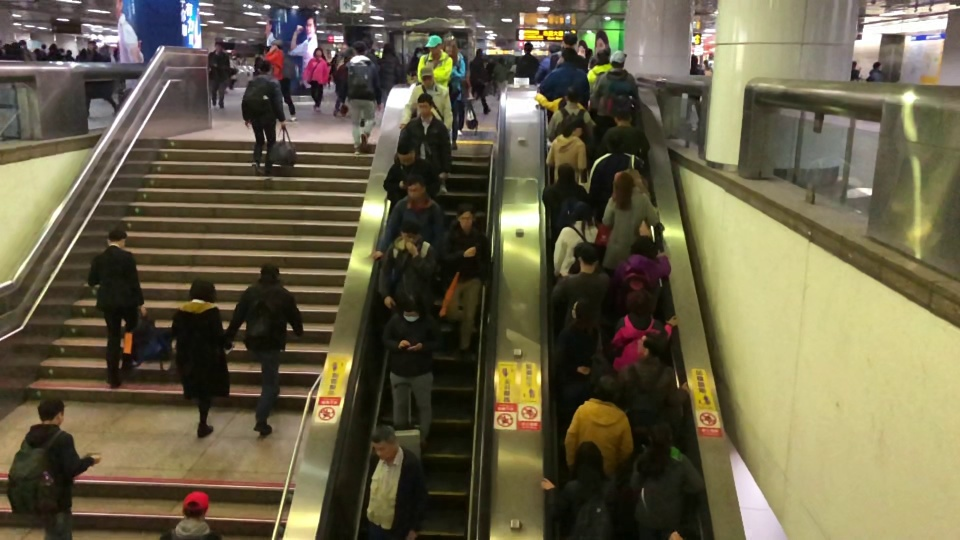person_head: (572, 440, 606, 487), (369, 423, 401, 461), (610, 170, 635, 212), (36, 397, 65, 427), (181, 490, 209, 521), (626, 288, 653, 319), (647, 419, 674, 449), (399, 290, 424, 322), (635, 330, 663, 358), (189, 278, 218, 305), (399, 216, 423, 248), (578, 242, 601, 275), (630, 233, 658, 259), (594, 371, 616, 402), (455, 201, 477, 231), (604, 127, 627, 154), (395, 137, 416, 166), (405, 171, 426, 200), (570, 296, 592, 323), (560, 118, 586, 139), (441, 33, 459, 63), (571, 200, 591, 225), (612, 106, 634, 127), (259, 262, 279, 285), (106, 229, 128, 249), (556, 162, 576, 184), (417, 93, 433, 119), (426, 34, 443, 58), (609, 48, 627, 68), (419, 65, 435, 87), (257, 59, 274, 76), (566, 84, 581, 103), (562, 32, 578, 49), (596, 48, 610, 67), (352, 40, 366, 56), (361, 36, 374, 52), (382, 42, 395, 56), (547, 43, 561, 56), (213, 40, 224, 54), (588, 55, 599, 69), (413, 45, 424, 58), (523, 41, 534, 54), (271, 39, 283, 50), (313, 46, 324, 58), (873, 62, 886, 72), (87, 40, 97, 51), (48, 43, 58, 52), (19, 39, 28, 48), (476, 48, 483, 57), (498, 55, 504, 64)
person_vbox: (8, 395, 102, 540), (226, 264, 303, 436), (169, 278, 234, 438), (626, 413, 705, 540), (598, 332, 690, 438), (86, 229, 148, 386), (538, 436, 626, 540), (381, 291, 435, 451), (437, 206, 491, 356), (563, 370, 634, 481), (364, 423, 429, 540), (592, 169, 660, 278), (368, 174, 447, 264), (398, 65, 453, 193), (546, 243, 611, 347), (608, 290, 679, 383), (587, 129, 649, 227), (377, 218, 440, 313), (240, 57, 287, 179), (553, 296, 599, 408), (609, 234, 672, 314), (398, 94, 451, 181), (541, 162, 593, 244), (344, 41, 380, 156), (588, 50, 641, 127), (383, 137, 442, 204), (552, 198, 599, 279), (159, 488, 224, 540), (546, 118, 591, 193), (594, 105, 650, 164), (82, 39, 120, 121), (545, 85, 597, 144), (263, 39, 298, 122), (441, 34, 466, 150), (358, 35, 383, 128), (207, 39, 238, 109), (300, 46, 331, 113), (417, 35, 453, 88), (380, 42, 406, 108), (551, 32, 589, 77), (332, 46, 355, 116), (468, 47, 491, 114), (585, 48, 614, 99), (534, 90, 588, 115), (534, 43, 562, 85), (515, 41, 540, 84), (404, 45, 426, 85), (491, 54, 508, 100), (866, 62, 887, 83), (18, 39, 37, 62), (45, 42, 67, 61)
